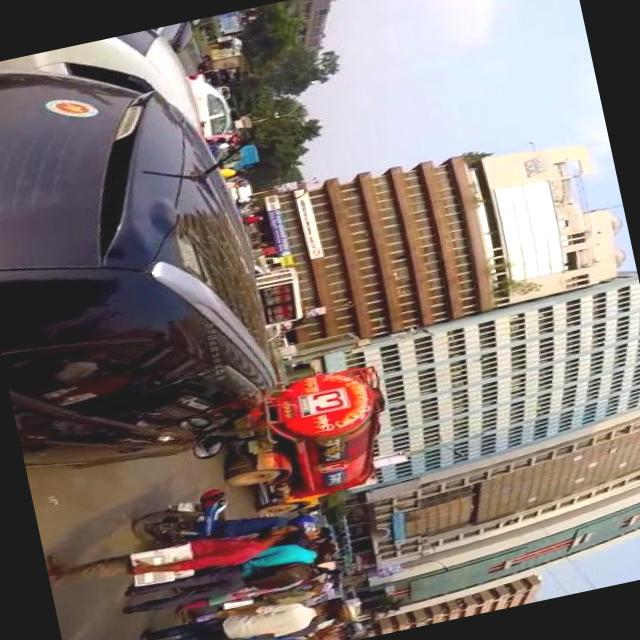car: (0, 24, 295, 494), (0, 24, 204, 176), (187, 71, 236, 142)
motorcycle: (128, 493, 235, 557)
truck: (208, 366, 396, 528)
